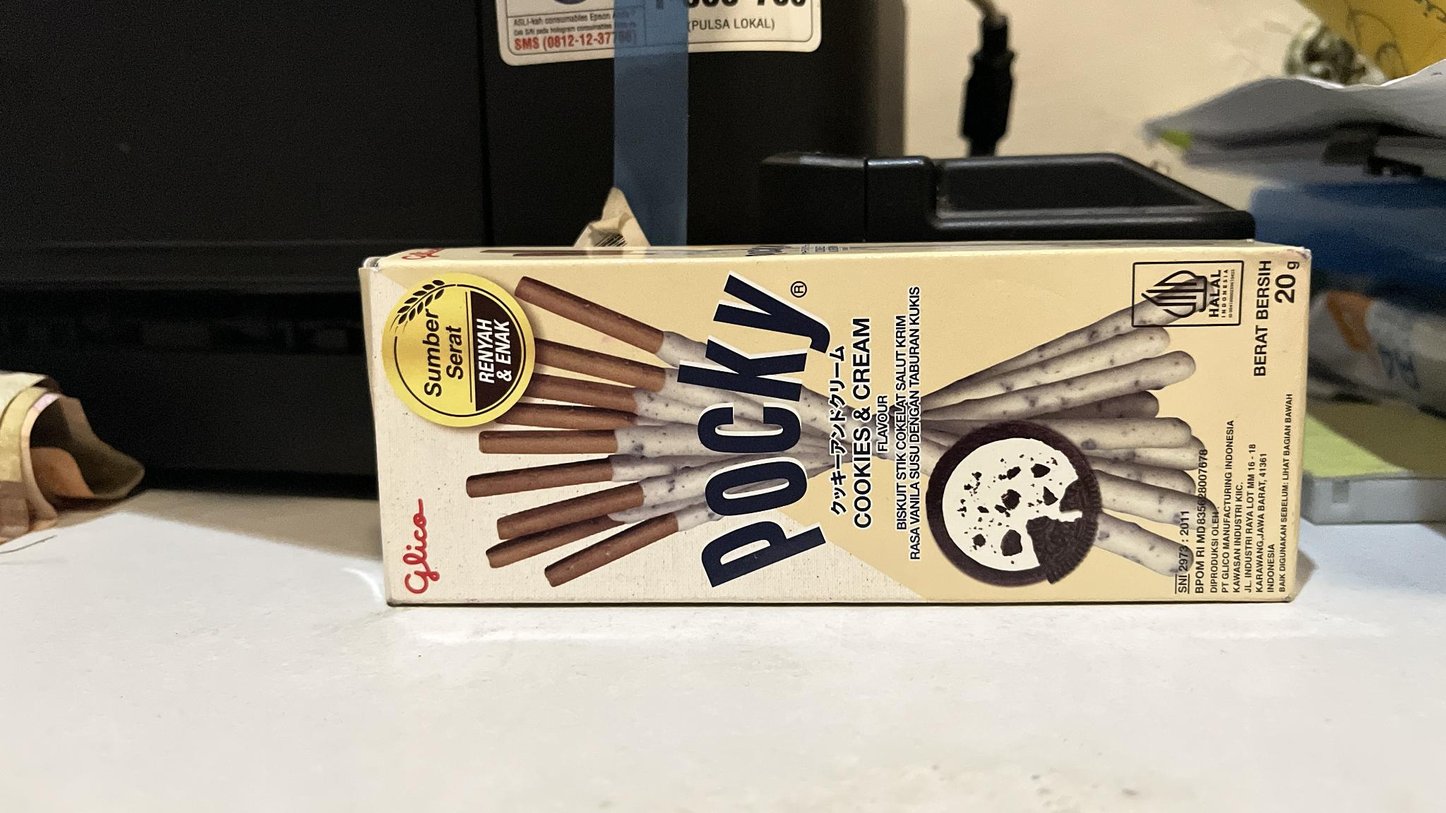Kertas: (371, 246, 1311, 608)
